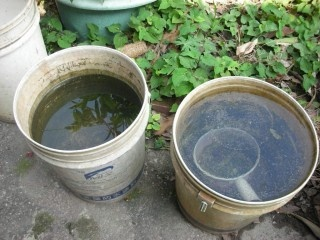bucket: (169, 74, 320, 236), (12, 44, 152, 204)
